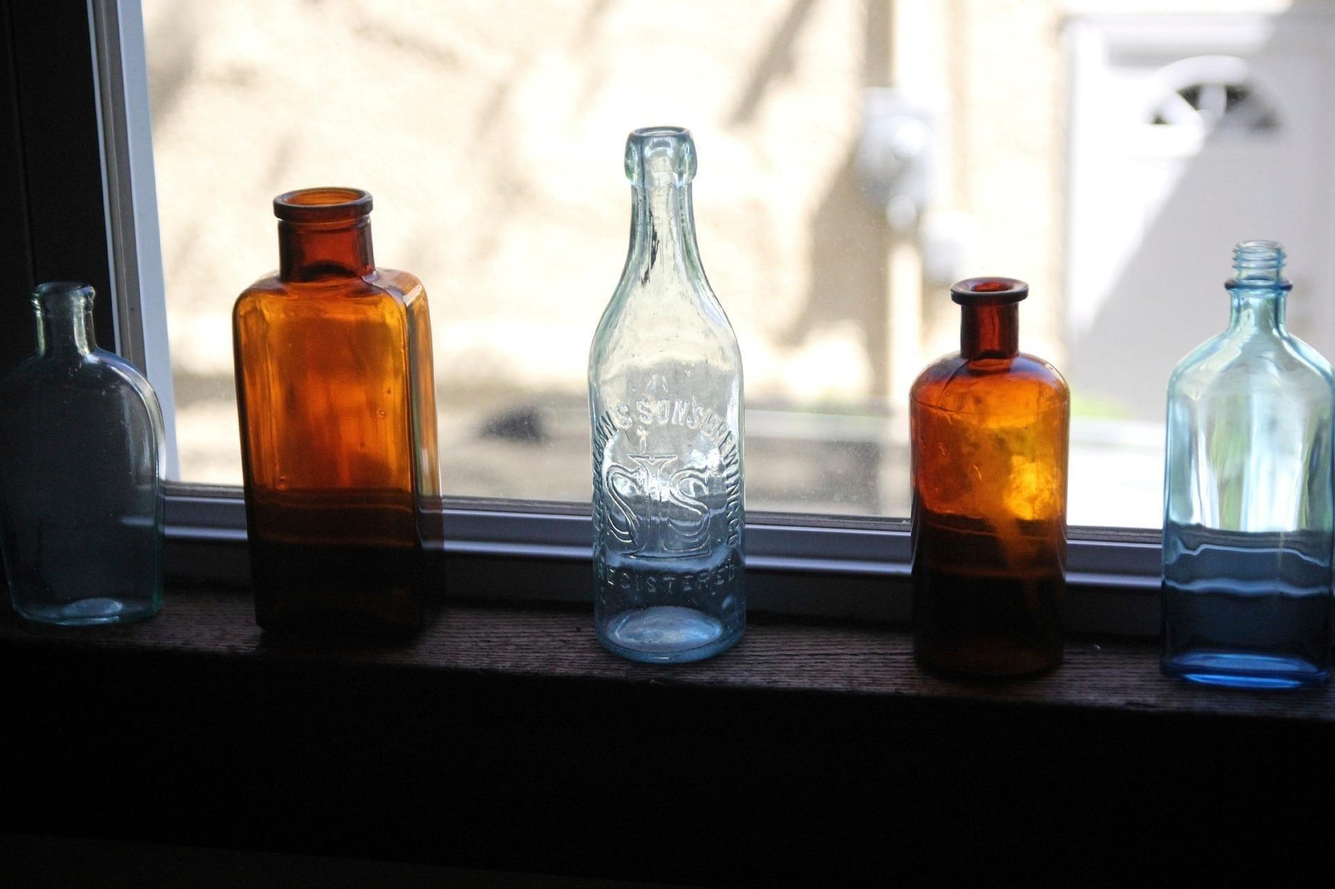bottle-glass: (222, 174, 451, 659), (578, 116, 754, 676), (1151, 236, 1334, 701), (900, 271, 1075, 690), (1, 275, 175, 638)
